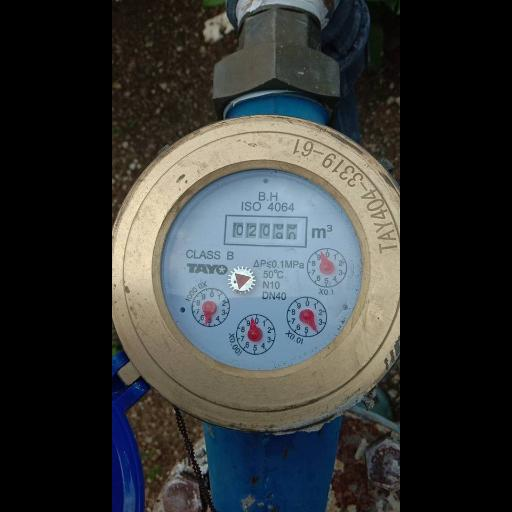0: (234, 222, 244, 238), (261, 223, 271, 239), (288, 224, 297, 240)
2: (247, 224, 257, 239)
8: (274, 223, 284, 239)
border_water_meter_number: (223, 214, 307, 249)
